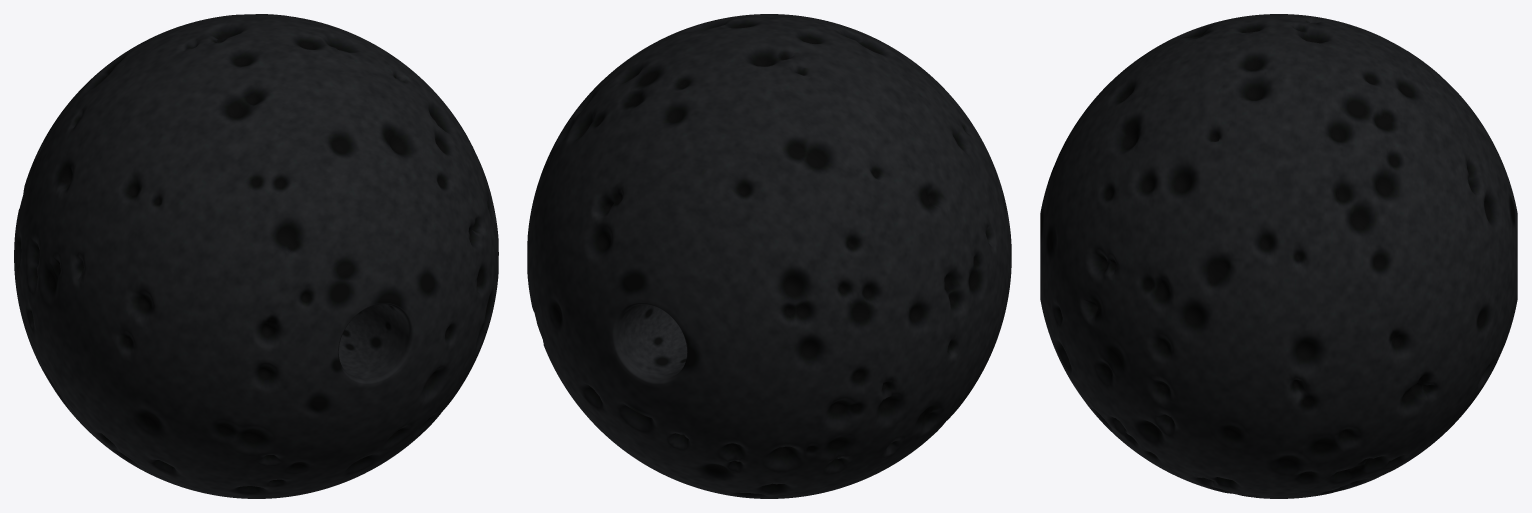
Rendered from black-lava-6mm.glb.
3 renders of one model, left to right at view 1: azimuth 30°, elevation 25°; view 2: azimuth 150°, elevation 25°; view 3: azimuth 270°, elevation 25°, orthographic.
Parts seen in each view (by area): view 1: black-lava.001; view 2: black-lava.001; view 3: black-lava.001.
Boxes of the visible parts, box(x1,y1,x2,y2) form: black-lava.001: box(14, 14, 498, 498); black-lava.001: box(527, 14, 1011, 498); black-lava.001: box(1040, 14, 1517, 498).
Size of the model in its own units: 0.006 by 0.00599 by 0.0059.
1 material, 1 textured.
